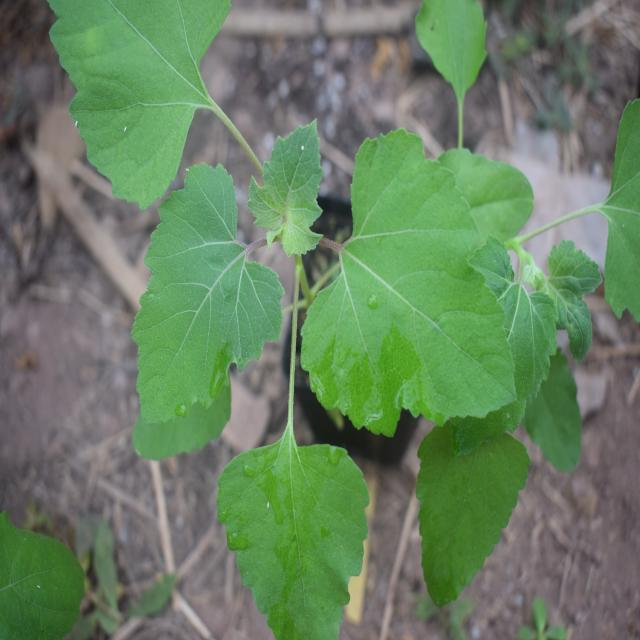cocklebur: (80, 13, 530, 594)
